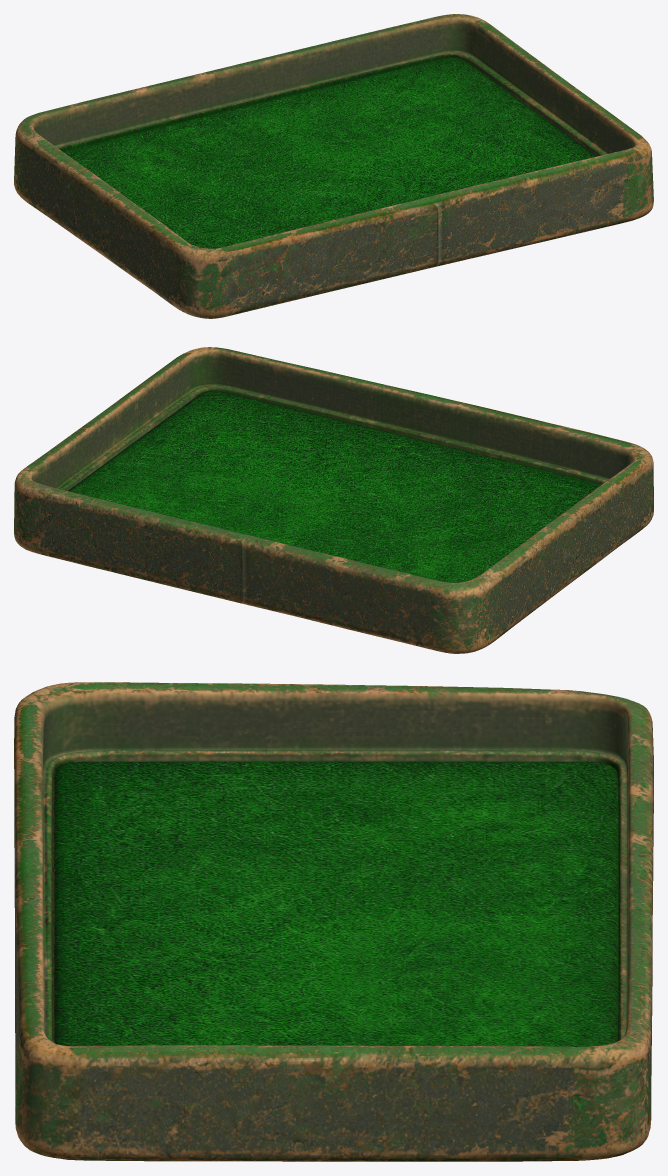
Rendered from Green_stamp_tray.fbx.
The picture shows the model from 3 angles, top to bottom: view 1: azimuth 30°, elevation 25°; view 2: azimuth 150°, elevation 25°; view 3: azimuth 270°, elevation 25°; orthographic projection. The views are drawn at different scales.
Parts seen in each view (by area): view 1: tripo_414f7e5d_ddd4_461c_90fd_d7ca8b885b81; view 2: tripo_414f7e5d_ddd4_461c_90fd_d7ca8b885b81; view 3: tripo_414f7e5d_ddd4_461c_90fd_d7ca8b885b81.
Part boxes in pixels (x1,y1,x2,y2): tripo_414f7e5d_ddd4_461c_90fd_d7ca8b885b81: [14, 14, 653, 318]; tripo_414f7e5d_ddd4_461c_90fd_d7ca8b885b81: [14, 347, 653, 653]; tripo_414f7e5d_ddd4_461c_90fd_d7ca8b885b81: [14, 682, 653, 1161].
Bounding box in the file's own units: 0.9995 × 0.1479 × 0.7241.
1 material, 1 textured.
